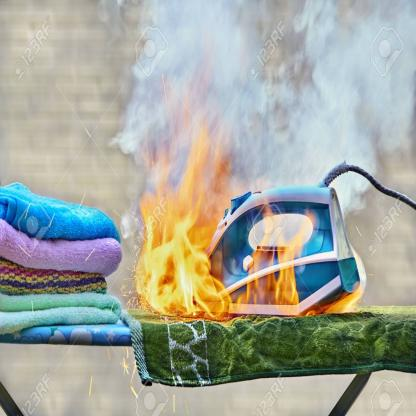fire: (134, 134, 362, 328)
smoke: (110, 0, 416, 223)
